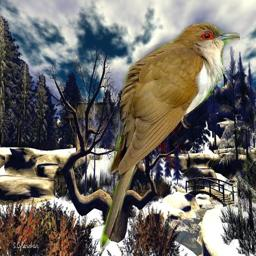Cuckoo: (100, 20, 240, 255)
